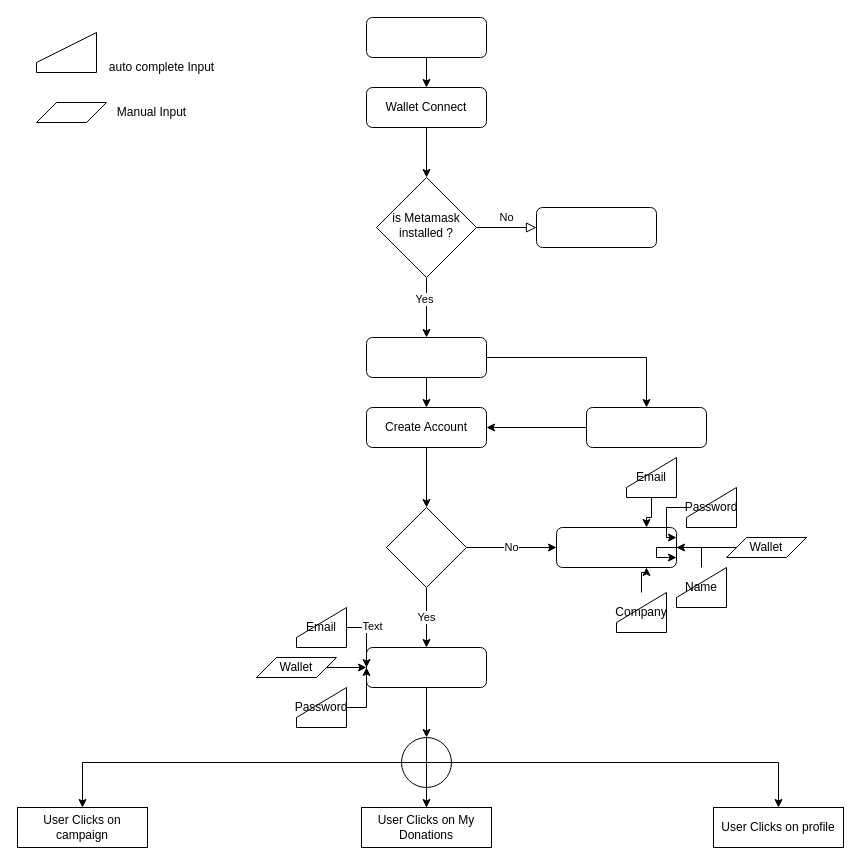
The diagram is 861 pixels wide and 865 high, and some of its shapes have lost their labels. The centre of each missing label's shape, as x and y in pixels:
Account Exists ?: point 426,547
App Initialized: point 426,37
Install Wallet extension: point 596,227
Login Form: point 426,667
Opens Metamask for connection with App: point 426,357
Signup Form: point 616,547
Welcome Page: point 646,427
